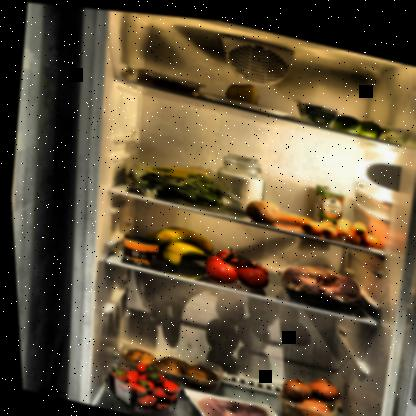banana: (144, 219, 213, 271)
carrot: (276, 197, 386, 246)
cheese: (221, 75, 263, 104)
chicken: (267, 249, 369, 311)
corn: (116, 229, 160, 267)
green_beans: (118, 145, 244, 215)
heavy_cream: (306, 175, 347, 220)
lime: (329, 101, 388, 135)
onion: (274, 363, 349, 415)
potato: (115, 341, 221, 390)
shrimp: (140, 70, 202, 94)
strawberries: (95, 352, 183, 415)
sweet_potato: (234, 188, 287, 224)
tomato: (199, 236, 274, 290)
